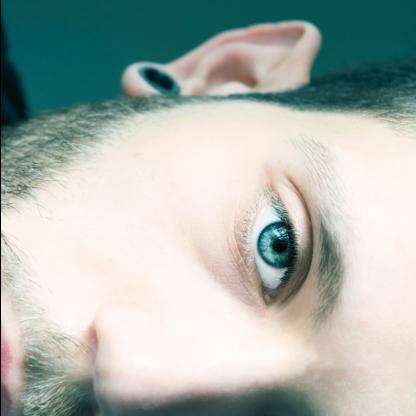Eye: (223, 162, 319, 322)
Mouth: (0, 310, 22, 416)
Nose: (89, 303, 272, 416)
